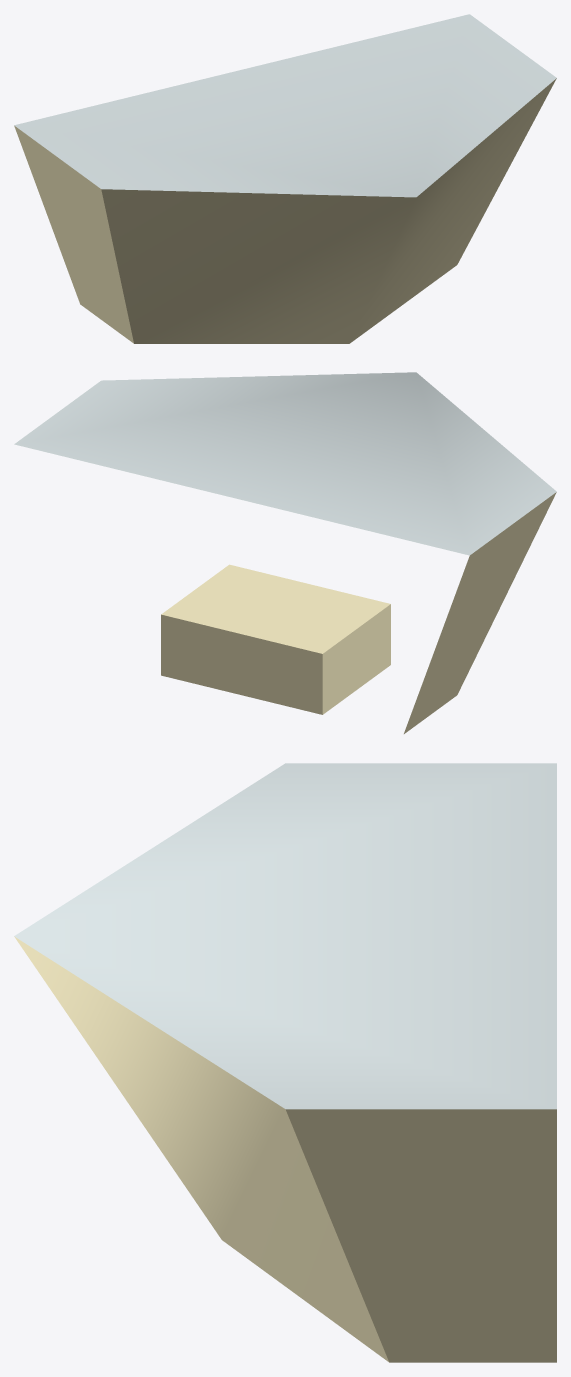
Rendered from lampadaMuro2.glb.
3 views of the same model, one above another, from view 1: azimuth 30°, elevation 25°; view 2: azimuth 150°, elevation 25°; view 3: azimuth 270°, elevation 25° (orthographic). The views are drawn at different scales.
Parts seen in each view (by area): view 1: lampWall(Clone); view 2: lampWall(Clone); view 3: lampWall(Clone).
Boxes of the visible parts, box(x1,y1,x2,y2) form: lampWall(Clone): box(14, 14, 556, 343); lampWall(Clone): box(14, 372, 556, 733); lampWall(Clone): box(14, 763, 556, 1362).
Bounding box in the file's own units: 0.2266 × 0.0928 × 0.1503.
